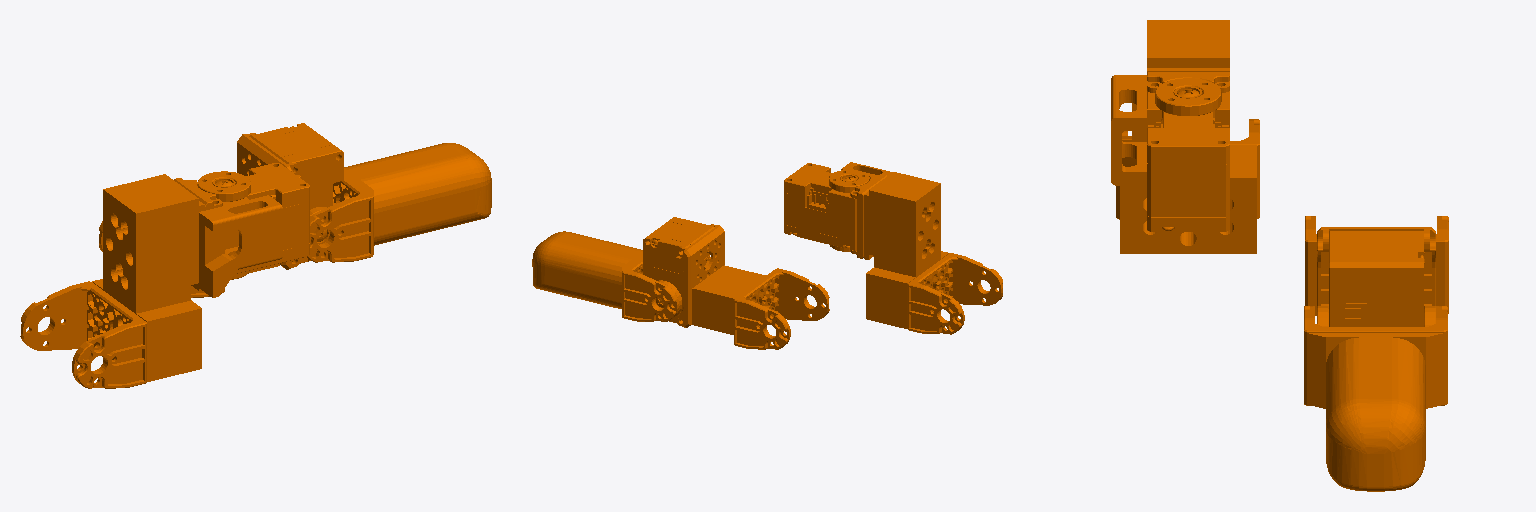
URDF robot description (onshape):
<robot name="onshape">
  <link name="palm_lower">
    <inertial>
      <origin xyz="0.0 0.0 0.0" rpy="0.0 -0.0 0.0"/>
      <mass value="0.237"/>
      <inertia ixx="0.000354094" ixy="-1.193e-06" ixz="-2.445e-06" iyy="0.000260915" iyz="-2.905e-06" izz="0.000529257"/>
    </inertial>
    <visual>
      <geometry>
        <mesh filename="../assets/leap/leap_hand/palm_lower.stl"/>
      </geometry>
      <origin xyz="-0.020095249652862544 0.025757756134899473 -0.034722403578460216" rpy="0.0 -0.0 0.0"/>
      <material name="palm_lower_material">
        <color rgba="0.6039215686274509 0.14901960784313725 0.14901960784313725 1.0"/>
      </material>
    </visual>
    <collision>
      <geometry>
        <mesh filename="../assets/leap/leap_hand/palm_lower.stl"/>
      </geometry>
      <origin xyz="-0.020095249652862544 0.025757756134899473 -0.034722403578460216" rpy="0.0 -0.0 0.0"/>
    </collision>
  </link>
  <link name="mcp_joint">
    <inertial>
      <origin xyz="0.0 0.0 0.0" rpy="0.0 -0.0 0.0"/>
      <mass value="0.044"/>
      <inertia ixx="1.1499e-05" ixy="3.049e-06" ixz="1.21e-07" iyy="7.796e-06" iyz="1.12e-07" izz="1.4759e-05"/>
    </inertial>
    <visual>
      <geometry>
        <mesh filename="../assets/leap/leap_hand/mcp_joint.stl"/>
      </geometry>
      <origin xyz="0.008406902261174496 0.0077662438597169954 0.014657354985032912" rpy="1.6375789613221e-15 -1.021047330249102e-30 1.7177968783327987e-31"/>
      <material name="mcp_joint_material">
        <color rgba="0.8666666666666667 0.8666666666666667 0.050980392156862744 1.0"/>
      </material>
    </visual>
    <collision>
      <geometry>
        <mesh filename="../assets/leap/leap_hand/mcp_joint.stl"/>
      </geometry>
      <origin xyz="0.008406902261174496 0.0077662438597169954 0.014657354985032912" rpy="1.6375789613221e-15 -1.021047330249102e-30 1.7177968783327987e-31"/>
    </collision>
  </link>
  <link name="pip">
    <inertial>
      <origin xyz="0.0 0.0 0.0" rpy="0.0 -0.0 0.0"/>
      <mass value="0.032"/>
      <inertia ixx="4.798e-06" ixy="1.2e-08" ixz="4e-09" iyy="2.862e-06" iyz="1.1e-08" izz="4.234e-06"/>
    </inertial>
    <visual>
      <geometry>
        <mesh filename="../assets/leap/leap_hand/pip.stl"/>
      </geometry>
      <origin xyz="0.009643363092271328 0.0002999999999999895 0.0007840340104173765" rpy="-1.5707963267948966 -1.5707963267948963 0.0"/>
      <material name="pip_material">
        <color rgba="0.7490196078431373 0.7490196078431373 0.7490196078431373 1.0"/>
      </material>
    </visual>
    <collision>
      <geometry>
        <mesh filename="../assets/leap/leap_hand/pip.stl"/>
      </geometry>
      <origin xyz="0.009643363092271328 0.0002999999999999895 0.0007840340104173765" rpy="-1.5707963267948966 -1.5707963267948963 0.0"/>
    </collision>
  </link>
  <link name="dip_long">
    <inertial>
      <origin xyz="0.0 0.0 0.0" rpy="0.0 -0.0 0.0"/>
      <mass value="0.037"/>
      <inertia ixx="5.542e-06" ixy="-6.07e-07" ixz="-1.7e-08" iyy="5.727e-06" iyz="-2.3e-08" izz="6.682e-06"/>
    </inertial>
    <visual>
      <geometry>
        <mesh filename="custom_models/dip_long.stl"/>
      </geometry>
      <origin xyz="0.021133352895225003 -0.00843211914670488 0.00978508816209524" rpy="-3.141592653589793 4.507511124216441e-32 4.439548105392361e-32"/>
      <material name="dip_material">
        <color rgba="0.878 0.467 0.0 1.0"/>
      </material>
    </visual>
    <collision>
      <geometry>
        <mesh filename="custom_models/dip_long.stl"/>
      </geometry>
      <origin xyz="0.021133352895225003 -0.00843211914670488 0.00978508816209524" rpy="-3.141592653589793 4.507511124216441e-32 4.439548105392361e-32"/>
    </collision>
  </link>
  <link name="fingertip_long">
    <inertial>
      <origin xyz="0.0 0.0 0.0" rpy="0.0 -0.0 0.0"/>
      <mass value="0.016"/>
      <inertia ixx="3.368e-06" ixy="1.15e-07" ixz="0.0" iyy="1.556e-06" iyz="0.0" izz="2.863e-06"/>
    </inertial>
    <visual>
      <geometry>
        <mesh filename="custom_models/fingertip_long.stl"/>
      </geometry>
      <origin xyz="0.013286424108533503 -0.006114238386541987 0.014499999999999498" rpy="3.141592653589793 1.1993117970061735e-33 4.439548105392361e-32"/>
      <material name="fingertip_material">
        <color rgba="0.878 0.467 0.0 1.0"/>
      </material>
    </visual>
    <collision>
      <geometry>
        <mesh filename="custom_models/fingertip_long.stl"/>
      </geometry>
      <origin xyz="0.013286424108533503 -0.006114238386541987 0.014499999999999498" rpy="3.141592653589793 1.1993117970061735e-33 4.439548105392361e-32"/>
    </collision>
  </link>
  <link name="pip_4">
    <inertial>
      <origin xyz="0.0 0.0 0.0" rpy="0.0 -0.0 0.0"/>
      <mass value="0.032"/>
      <inertia ixx="4.798e-06" ixy="1.2e-08" ixz="4e-09" iyy="2.862e-06" iyz="1.1e-08" izz="4.234e-06"/>
    </inertial>
    <visual>
      <geometry>
        <mesh filename="../assets/leap/leap_hand/pip.stl"/>
      </geometry>
      <origin xyz="-0.005356636907728671 0.0002999999999999999 0.0007840340104173782" rpy="-1.5707963267948966 -1.5707963267948963 0.0"/>
      <material name="pip_material">
        <color rgba="0.7490196078431373 0.7490196078431373 0.7490196078431373 1.0"/>
      </material>
    </visual>
    <collision>
      <geometry>
        <mesh filename="../assets/leap/leap_hand/pip.stl"/>
      </geometry>
      <origin xyz="-0.005356636907728671 0.0002999999999999999 0.0007840340104173782" rpy="-1.5707963267948966 -1.5707963267948963 0.0"/>
    </collision>
  </link>
  <link name="thumb_pip">
    <inertial>
      <origin xyz="0.0 0.0 0.0" rpy="0.0 -0.0 0.0"/>
      <mass value="0.003"/>
      <inertia ixx="5.93e-07" ixy="0.0" ixz="0.0" iyy="5.49e-07" iyz="0.0" izz="2.24e-07"/>
    </inertial>
    <visual>
      <geometry>
        <mesh filename="../assets/leap/leap_hand/thumb_pip.stl"/>
      </geometry>
      <origin xyz="0.011961920770611187 -5.30825383648903e-16 -0.0158526489566642" rpy="1.5707963267948966 1.6050198443300153e-46 -3.9204996250525193e-59"/>
      <material name="thumb_pip_material">
        <color rgba="0.8666666666666667 0.8666666666666667 0.050980392156862744 1.0"/>
      </material>
    </visual>
    <collision>
      <geometry>
        <mesh filename="../assets/leap/leap_hand/thumb_pip.stl"/>
      </geometry>
      <origin xyz="0.011961920770611187 -5.30825383648903e-16 -0.0158526489566642" rpy="1.5707963267948966 1.6050198443300153e-46 -3.9204996250525193e-59"/>
    </collision>
  </link>
  <link name="thumb_dip">
    <inertial>
      <origin xyz="0.0 0.0 0.0" rpy="0.0 -0.0 0.0"/>
      <mass value="0.038"/>
      <inertia ixx="8.474e-06" ixy="2.41e-07" ixz="2.6e-08" iyy="3.841e-06" iyz="2.5e-08" izz="7.679e-06"/>
    </inertial>
    <visual>
      <geometry>
        <mesh filename="../assets/leap/leap_hand/thumb_dip.stl"/>
      </geometry>
      <origin xyz="0.043968715707239175 0.0579529529737092 -0.008628676449369476" rpy="1.94289029309401e-16 3.27515792264422e-15 1.112375852965736e-46"/>
      <material name="thumb_dip_material">
        <color rgba="0.8666666666666667 0.8666666666666667 0.050980392156862744 1.0"/>
      </material>
    </visual>
    <collision>
      <geometry>
        <mesh filename="../assets/leap/leap_hand/thumb_dip.stl"/>
      </geometry>
      <origin xyz="0.043968715707239175 0.0579529529737092 -0.008628676449369476" rpy="1.94289029309401e-16 3.27515792264422e-15 1.112375852965736e-46"/>
    </collision>
  </link>
  <link name="thumb_fingertip">
    <inertial>
      <origin xyz="0.0 0.0 0.0" rpy="0.0 -0.0 0.0"/>
      <mass value="0.049"/>
      <inertia ixx="2.0372e-05" ixy="-4.89e-07" ixz="-3e-08" iyy="4.336e-06" iyz="-9.7e-08" izz="1.9845e-05"/>
    </inertial>
    <visual>
      <geometry>
        <mesh filename="../assets/leap/leap_hand/thumb_fingertip.stl"/>
      </geometry>
      <origin xyz="0.06255953846266739 0.07845968291139699 0.048992911807332215" rpy="4.379057701015637e-47 -3.33066907387547e-16 1.2042408677791935e-46"/>
      <material name="thumb_fingertip_material">
        <color rgba="0.6039215686274509 0.14901960784313725 0.14901960784313725 1.0"/>
      </material>
    </visual>
    <collision>
      <geometry>
        <mesh filename="../assets/leap/leap_hand/thumb_fingertip.stl"/>
      </geometry>
      <origin xyz="0.06255953846266739 0.07845968291139699 0.048992911807332215" rpy="4.379057701015637e-47 -3.33066907387547e-16 1.2042408677791935e-46"/>
    </collision>
  </link>
  <link name="mcp_joint_2_long">
    <inertial>
      <origin xyz="0.0 0.0 0.0" rpy="0.0 -0.0 0.0"/>
      <mass value="0.044"/>
      <inertia ixx="1.1499e-05" ixy="3.049e-06" ixz="1.21e-07" iyy="7.796e-06" iyz="1.12e-07" izz="1.4759e-05"/>
    </inertial>
    <visual>
      <geometry>
        <mesh filename="custom_models/mcp_joint_long.stl"/>
      </geometry>
      <origin xyz="0.008406902261174496 0.0077662438597169954 0.014657354985032914" rpy="1.6375789613221e-15 -1.0076465469034e-30 2.1209300131419907e-61"/>
      <material name="mcp_joint_material">
        <color rgba="0.878 0.467 0.0 1.0"/>
      </material>
    </visual>
    <collision>
      <geometry>
        <mesh filename="custom_models/mcp_joint_long.stl"/>
      </geometry>
      <origin xyz="0.008406902261174496 0.0077662438597169954 0.014657354985032914" rpy="1.6375789613221e-15 -1.0076465469034e-30 2.1209300131419907e-61"/>
    </collision>
  </link>
  <link name="pip_2">
    <inertial>
      <origin xyz="0.0 0.0 0.0" rpy="0.0 -0.0 0.0"/>
      <mass value="0.032"/>
      <inertia ixx="4.798e-06" ixy="1.2e-08" ixz="4e-09" iyy="2.862e-06" iyz="1.1e-08" izz="4.234e-06"/>
    </inertial>
    <visual>
      <geometry>
        <mesh filename="../assets/leap/leap_hand/pip.stl"/>
      </geometry>
      <origin xyz="0.009643363092271328 0.0002999999999999947 0.0007840340104173765" rpy="-1.5707963267948966 -1.5707963267948963 0.0"/>
      <material name="pip_material">
        <color rgba="0.7490196078431373 0.7490196078431373 0.7490196078431373 1.0"/>
      </material>
    </visual>
    <collision>
      <geometry>
        <mesh filename="../assets/leap/leap_hand/pip.stl"/>
      </geometry>
      <origin xyz="0.009643363092271328 0.0002999999999999947 0.0007840340104173765" rpy="-1.5707963267948966 -1.5707963267948963 0.0"/>
    </collision>
  </link>
  <link name="dip_2">
    <inertial>
      <origin xyz="0.0 0.0 0.0" rpy="0.0 -0.0 0.0"/>
      <mass value="0.037"/>
      <inertia ixx="5.542e-06" ixy="-6.07e-07" ixz="-1.7e-08" iyy="5.727e-06" iyz="-2.3e-08" izz="6.682e-06"/>
    </inertial>
    <visual>
      <geometry>
        <mesh filename="../assets/leap/leap_hand/dip.stl"/>
      </geometry>
      <origin xyz="0.021133352895225003 -0.008432119146704865 0.009785088162095237" rpy="-3.141592653589793 2.1146933785271956e-32 1.4408183216511869e-31"/>
      <material name="dip_material">
        <color rgba="0.8666666666666667 0.8666666666666667 0.050980392156862744 1.0"/>
      </material>
    </visual>
    <collision>
      <geometry>
        <mesh filename="../assets/leap/leap_hand/dip.stl"/>
      </geometry>
      <origin xyz="0.021133352895225003 -0.008432119146704865 0.009785088162095237" rpy="-3.141592653589793 2.1146933785271956e-32 1.4408183216511869e-31"/>
    </collision>
  </link>
  <link name="fingertip_2">
    <inertial>
      <origin xyz="0.0 0.0 0.0" rpy="0.0 -0.0 0.0"/>
      <mass value="0.016"/>
      <inertia ixx="3.368e-06" ixy="1.15e-07" ixz="0.0" iyy="1.556e-06" iyz="0.0" izz="2.863e-06"/>
    </inertial>
    <visual>
      <geometry>
        <mesh filename="../assets/leap/leap_hand/fingertip.stl"/>
      </geometry>
      <origin xyz="0.013286424108533496 -0.006114238386542001 0.014499999999999496" rpy="3.141592653589793 -4.317959788283594e-33 1.4408183216511869e-31"/>
      <material name="fingertip_material">
        <color rgba="0.8666666666666667 0.8666666666666667 0.050980392156862744 1.0"/>
      </material>
    </visual>
    <collision>
      <geometry>
        <mesh filename="../assets/leap/leap_hand/fingertip.stl"/>
      </geometry>
      <origin xyz="0.013286424108533496 -0.006114238386542001 0.014499999999999496" rpy="3.141592653589793 -4.317959788283594e-33 1.4408183216511869e-31"/>
    </collision>
  </link>
  <link name="mcp_joint_3">
    <inertial>
      <origin xyz="0.0 0.0 0.0" rpy="0.0 -0.0 0.0"/>
      <mass value="0.044"/>
      <inertia ixx="1.1499e-05" ixy="3.049e-06" ixz="1.21e-07" iyy="7.796e-06" iyz="1.12e-07" izz="1.4759e-05"/>
    </inertial>
    <visual>
      <geometry>
        <mesh filename="../assets/leap/leap_hand/mcp_joint.stl"/>
      </geometry>
      <origin xyz="0.0084069022611745 0.007766243859716996 0.014657354985032914" rpy="1.6375789613221e-15 -1.0059504988632627e-30 5.729641584552035e-32"/>
      <material name="mcp_joint_material">
        <color rgba="0.8666666666666667 0.8666666666666667 0.050980392156862744 1.0"/>
      </material>
    </visual>
    <collision>
      <geometry>
        <mesh filename="../assets/leap/leap_hand/mcp_joint.stl"/>
      </geometry>
      <origin xyz="0.0084069022611745 0.007766243859716996 0.014657354985032914" rpy="1.6375789613221e-15 -1.0059504988632627e-30 5.729641584552035e-32"/>
    </collision>
  </link>
  <link name="pip_3">
    <inertial>
      <origin xyz="0.0 0.0 0.0" rpy="0.0 -0.0 0.0"/>
      <mass value="0.032"/>
      <inertia ixx="4.798e-06" ixy="1.2e-08" ixz="4e-09" iyy="2.862e-06" iyz="1.1e-08" izz="4.234e-06"/>
    </inertial>
    <visual>
      <geometry>
        <mesh filename="../assets/leap/leap_hand/pip.stl"/>
      </geometry>
      <origin xyz="0.009643363092271331 0.00029999999999998084 0.0007840340104173765" rpy="-1.5707963267948966 -1.5707963267948963 0.0"/>
      <material name="pip_material">
        <color rgba="0.7490196078431373 0.7490196078431373 0.7490196078431373 1.0"/>
      </material>
    </visual>
    <collision>
      <geometry>
        <mesh filename="../assets/leap/leap_hand/pip.stl"/>
      </geometry>
      <origin xyz="0.009643363092271331 0.00029999999999998084 0.0007840340104173765" rpy="-1.5707963267948966 -1.5707963267948963 0.0"/>
    </collision>
  </link>
  <link name="dip_3">
    <inertial>
      <origin xyz="0.0 0.0 0.0" rpy="0.0 -0.0 0.0"/>
      <mass value="0.037"/>
      <inertia ixx="5.542e-06" ixy="-6.07e-07" ixz="-1.7e-08" iyy="5.727e-06" iyz="-2.3e-08" izz="6.682e-06"/>
    </inertial>
    <visual>
      <geometry>
        <mesh filename="../assets/leap/leap_hand/dip.stl"/>
      </geometry>
      <origin xyz="0.021133352895225006 -0.008432119146704865 0.009785088162095237" rpy="-3.141592653589793 -1.4095651113919093e-33 1.5565411607615035e-32"/>
      <material name="dip_material">
        <color rgba="0.8666666666666667 0.8666666666666667 0.050980392156862744 1.0"/>
      </material>
    </visual>
    <collision>
      <geometry>
        <mesh filename="../assets/leap/leap_hand/dip.stl"/>
      </geometry>
      <origin xyz="0.021133352895225006 -0.008432119146704865 0.009785088162095237" rpy="-3.141592653589793 -1.4095651113919093e-33 1.5565411607615035e-32"/>
    </collision>
  </link>
  <link name="fingertip_3">
    <inertial>
      <origin xyz="0.0 0.0 0.0" rpy="0.0 -0.0 0.0"/>
      <mass value="0.016"/>
      <inertia ixx="3.368e-06" ixy="1.15e-07" ixz="0.0" iyy="1.556e-06" iyz="0.0" izz="2.863e-06"/>
    </inertial>
    <visual>
      <geometry>
        <mesh filename="../assets/leap/leap_hand/fingertip.stl"/>
      </geometry>
      <origin xyz="0.013286424108533501 -0.006114238386541987 0.0144999999999995" rpy="3.141592653589793 8.61707169505754e-33 1.5565411607615035e-32"/>
      <material name="fingertip_material">
        <color rgba="0.8666666666666667 0.8666666666666667 0.050980392156862744 1.0"/>
      </material>
    </visual>
    <collision>
      <geometry>
        <mesh filename="../assets/leap/leap_hand/fingertip.stl"/>
      </geometry>
      <origin xyz="0.013286424108533501 -0.006114238386541987 0.0144999999999995" rpy="3.141592653589793 8.61707169505754e-33 1.5565411607615035e-32"/>
    </collision>
  </link>
  <joint name="1" type="revolute">
    <parent link="palm_lower"/>
    <child link="mcp_joint"/>
    <origin xyz="-0.007095249652862546 0.023057756134899472 -0.01872240357846022" rpy="1.570796326794895 1.5707963267948946 0.0"/>
    <axis xyz="0.0 0.0 -1.0"/>
    <limit effort="0.95" velocity="8.48" lower="-0.314" upper="2.23"/>
  </joint>
  <joint name="0" type="revolute">
    <parent link="mcp_joint"/>
    <child link="pip"/>
    <origin xyz="-0.012200000000000008 0.038099999999999995 0.0145" rpy="-1.5707963267948966 -1.0065212660796337e-15 1.5707963267948943"/>
    <axis xyz="0.0 0.0 -1.0"/>
    <limit effort="0.95" velocity="8.48" lower="-1.047" upper="1.047"/>
  </joint>
  <joint name="2" type="revolute">
    <parent link="pip"/>
    <child link="dip_long"/>
    <origin xyz="0.014999999999999968 0.014299999999999905 -0.012999999999999824" rpy="1.570796326794896 -1.5707963267948963 0.0"/>
    <axis xyz="0.0 0.0 -1.0"/>
    <limit effort="0.95" velocity="8.48" lower="-0.506" upper="1.885"/>
  </joint>
  <joint name="3" type="revolute">
    <parent link="dip_long"/>
    <child link="fingertip_long"/>
    <origin xyz="-4.0880582495572692636e-09 -0.051100004210367367397 0.00020000000000007858714" rpy="4.5935029425113685e-17 -2.8730071914463795e-16 4.439548105392361e-32"/>
    <axis xyz="0.0 0.0 -1.0"/>
    <limit effort="0.95" velocity="8.48" lower="-0.366" upper="2.042"/>
  </joint>
  <joint name="12" type="revolute">
    <parent link="palm_lower"/>
    <child link="pip_4"/>
    <origin xyz="-0.06939524965286253 -0.0012422438651005258 -0.021622403578460216" rpy="-8.238176646493942e-17 1.5707963267948957 0.0"/>
    <axis xyz="0.0 0.0 -1.0"/>
    <limit effort="0.95" velocity="8.48" lower="-0.349" upper="2.094"/>
  </joint>
  <joint name="13" type="revolute">
    <parent link="pip_4"/>
    <child link="thumb_pip"/>
    <origin xyz="-2.7755575615628914e-17 0.014300000000000005 -0.013000000000000012" rpy="1.570796326794896 -1.5707963267948963 0.0"/>
    <axis xyz="0.0 0.0 -1.0"/>
    <limit effort="0.95" velocity="8.48" lower="-0.47" upper="2.443"/>
  </joint>
  <joint name="14" type="revolute">
    <parent link="thumb_pip"/>
    <child link="thumb_dip"/>
    <origin xyz="0.0 0.014499999999999966 -0.017000000000000053" rpy="-1.5707963267948966 1.6050198443300131e-46 -1.9721522630516625e-31"/>
    <axis xyz="0.0 0.0 -1.0"/>
    <limit effort="0.95" velocity="8.48" lower="-1.2" upper="1.9"/>
  </joint>
  <joint name="15" type="revolute">
    <parent link="thumb_dip"/>
    <child link="thumb_fingertip"/>
    <origin xyz="-1.249000902703301e-16 0.046599999999999864 0.0001999999999999771" rpy="1.506395849149178e-44 5.423418723393526e-31 3.141592653589793"/>
    <axis xyz="0.0 0.0 -1.0"/>
    <limit effort="0.95" velocity="8.48" lower="-1.34" upper="1.88"/>
  </joint>
  <joint name="5" type="revolute">
    <parent link="palm_lower"/>
    <child link="mcp_joint_2_long"/>
    <origin xyz="-0.007095249652862546 -0.022392243865100525 -0.01872240357846022" rpy="1.570796326794895 1.5707963267948946 0.0"/>
    <axis xyz="0.0 0.0 -1.0"/>
    <limit effort="0.95" velocity="8.48" lower="-0.314" upper="2.23"/>
  </joint>
  <joint name="4" type="revolute">
    <parent link="mcp_joint_2_long"/>
    <child link="pip_2"/>
    <origin xyz="-0.012200000000000007713 0.053099999999999994982 0.014500000000000000736" rpy="-1.5707963267948966 -1.0065212660796337e-15 1.5707963267948943"/>
    <axis xyz="0.0 0.0 -1.0"/>
    <limit effort="0.95" velocity="8.48" lower="-1.047" upper="1.047"/>
  </joint>
  <joint name="6" type="revolute">
    <parent link="pip_2"/>
    <child link="dip_2"/>
    <origin xyz="0.014999999999999968 0.014299999999999905 -0.012999999999999824" rpy="1.570796326794896 -1.5707963267948963 0.0"/>
    <axis xyz="0.0 0.0 -1.0"/>
    <limit effort="0.95" velocity="8.48" lower="-0.506" upper="1.885"/>
  </joint>
  <joint name="7" type="revolute">
    <parent link="dip_2"/>
    <child link="fingertip_2"/>
    <origin xyz="-4.088058249557269e-09 -0.03610000421036737 0.0002000000000000786" rpy="4.5935029425113685e-17 -2.8730071914463795e-16 4.439548105392361e-32"/>
    <axis xyz="0.0 0.0 -1.0"/>
    <limit effort="0.95" velocity="8.48" lower="-0.366" upper="2.042"/>
  </joint>
  <joint name="9" type="revolute">
    <parent link="palm_lower"/>
    <child link="mcp_joint_3"/>
    <origin xyz="-0.007095249652862546 -0.06784224386510052 -0.01872240357846022" rpy="1.570796326794895 1.5707963267948946 0.0"/>
    <axis xyz="0.0 0.0 -1.0"/>
    <limit effort="0.95" velocity="8.48" lower="-0.314" upper="2.23"/>
  </joint>
  <joint name="8" type="revolute">
    <parent link="mcp_joint_3"/>
    <child link="pip_3"/>
    <origin xyz="-0.012200000000000008 0.038099999999999995 0.0145" rpy="-1.5707963267948966 -1.0065212660796337e-15 1.5707963267948943"/>
    <axis xyz="0.0 0.0 -1.0"/>
    <limit effort="0.95" velocity="8.48" lower="-1.047" upper="1.047"/>
  </joint>
  <joint name="10" type="revolute">
    <parent link="pip_3"/>
    <child link="dip_3"/>
    <origin xyz="0.014999999999999968 0.014299999999999905 -0.012999999999999824" rpy="1.570796326794896 -1.5707963267948963 0.0"/>
    <axis xyz="0.0 0.0 -1.0"/>
    <limit effort="0.95" velocity="8.48" lower="-0.506" upper="1.885"/>
  </joint>
  <joint name="11" type="revolute">
    <parent link="dip_3"/>
    <child link="fingertip_3"/>
    <origin xyz="-4.088058249557269e-09 -0.03610000421036737 0.0002000000000000786" rpy="4.5935029425113685e-17 -2.8730071914463795e-16 4.439548105392361e-32"/>
    <axis xyz="0.0 0.0 -1.0"/>
    <limit effort="0.95" velocity="8.48" lower="-0.366" upper="2.042"/>
  </joint>
</robot>

--- Render facts (derived) ---
Views: 3 orthographic renders of the robot side by side, from view 1: azimuth 30°, elevation 25°; view 2: azimuth 150°, elevation 25°; view 3: azimuth 270°, elevation 25°.
Model onshape with 17 links and 16 joints (16 revolute), rooted at palm_lower, posed all joints at 0.
Visible links, largest first — view 1: mcp_joint_2_long, fingertip_long, dip_long; view 2: mcp_joint_2_long, dip_long, fingertip_long; view 3: mcp_joint_2_long, fingertip_long, dip_long.
Link boxes in pixels (<box>): mcp_joint_2_long: <box>20,163,309,388</box>; fingertip_long: <box>306,143,491,262</box>; dip_long: <box>99,123,343,297</box>; mcp_joint_2_long: <box>784,162,1002,334</box>; dip_long: <box>643,217,829,349</box>; fingertip_long: <box>532,231,678,321</box>; mcp_joint_2_long: <box>1111,20,1259,253</box>; fingertip_long: <box>1304,306,1447,491</box>; dip_long: <box>1305,216,1448,326</box>.
Size in the robot's own frame: 0.1766 by 0.0811 by 0.0549 metres.
Meshes: 11 distinct files referenced, 3 mesh visuals loaded (3 binary STL); not drawn: 14 (reference not matched to a file when rendering).